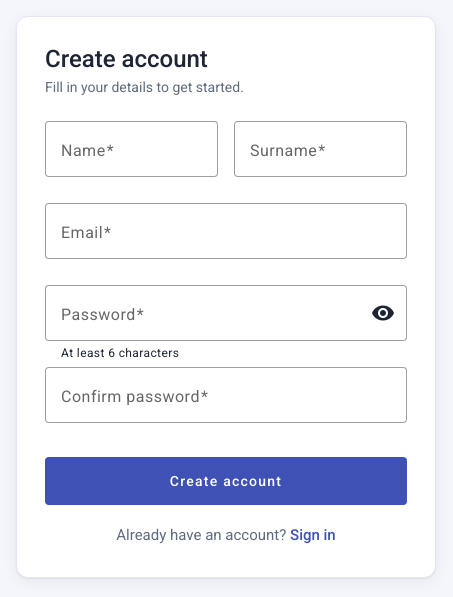
Test: SignupComponent › registering › shows progress and blocks edits and resubmission while waiting
In the field labelled "Name": (132, 149) top-left (61, 137), bottom-right (202, 161), type "  Ada "
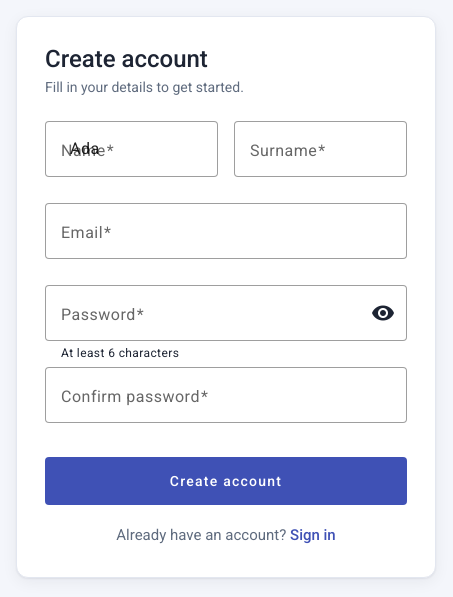
In the field labelled "Surname": (320, 149) top-left (250, 137), bottom-right (391, 161), type " Lovelace  "
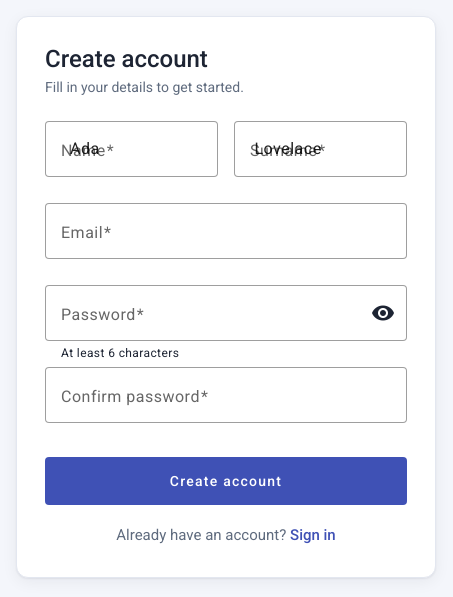
In the field labelled "Email": (226, 231) top-left (61, 219), bottom-right (391, 243), type "ada@example.com"
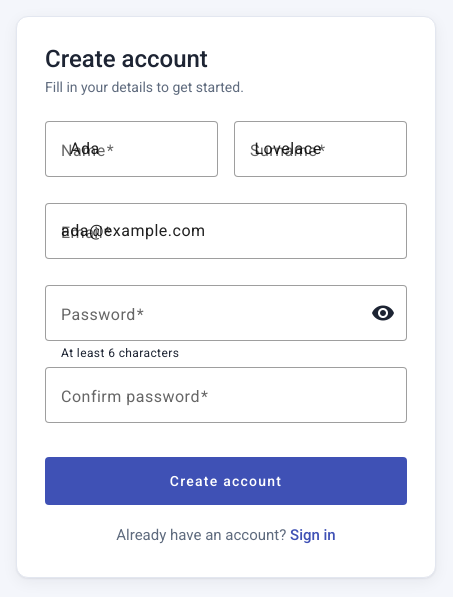
In the password field labelled "Password": (208, 313) top-left (61, 301), bottom-right (355, 325), type "secret1"
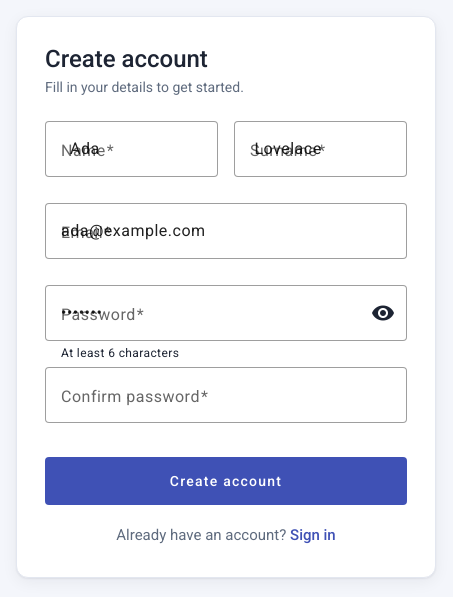
In the password field labelled "Confirm password": (226, 395) top-left (61, 383), bottom-right (391, 407), type "secret1"
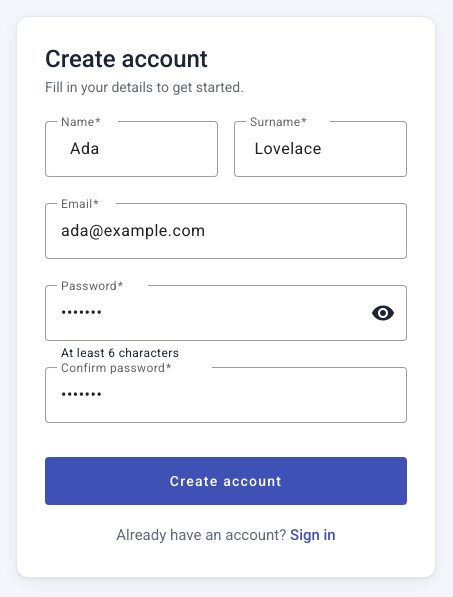
Click the submit button: (226, 481) top-left (45, 457), bottom-right (407, 505)
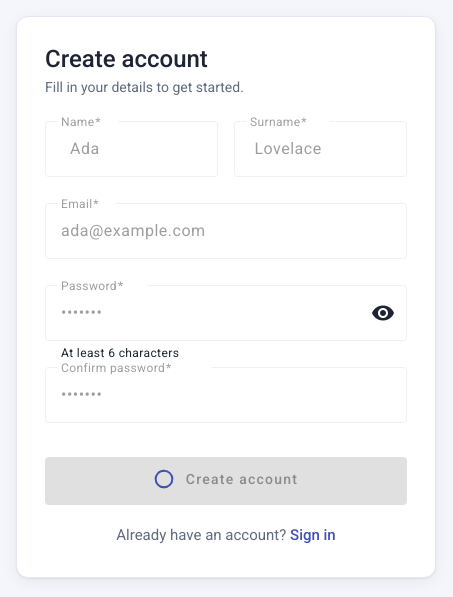
Expected: the submit button is disabled, top-left (45, 457), bottom-right (407, 505)
Expected: the progress indicator is shown, top-left (154, 468), bottom-right (174, 488)
